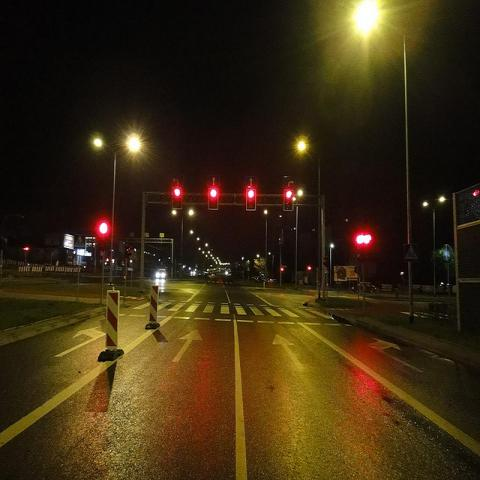car: (365, 282, 378, 293), (156, 269, 167, 278)
